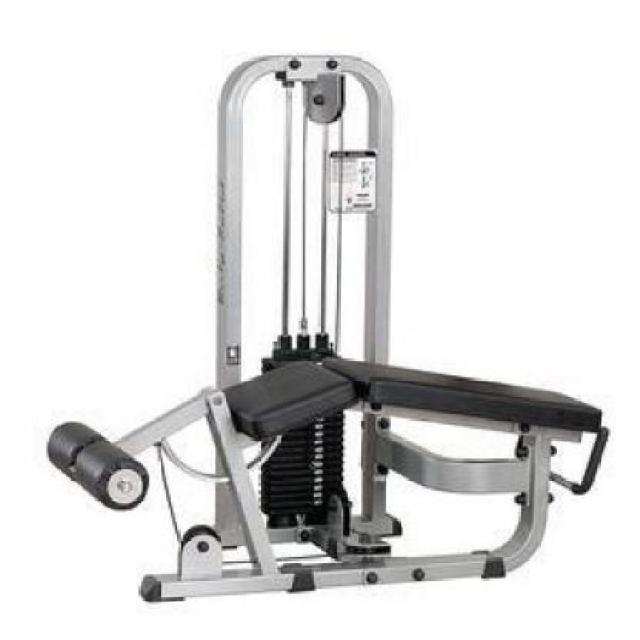reg curl machine: (51, 56, 609, 604)
